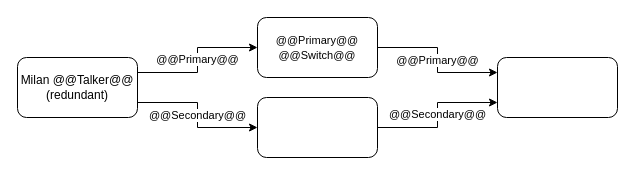
The diagram is 635 pixels wide and 175 high, and some of its shapes have lost their labels. Here are the shapes that lost their labels. From the top down, the centre of each, then its label:
At point (557, 87): "Milan @@Listener@@ (redundant)".
At point (317, 127): "@@Secondary@@ @@Switch@@".
